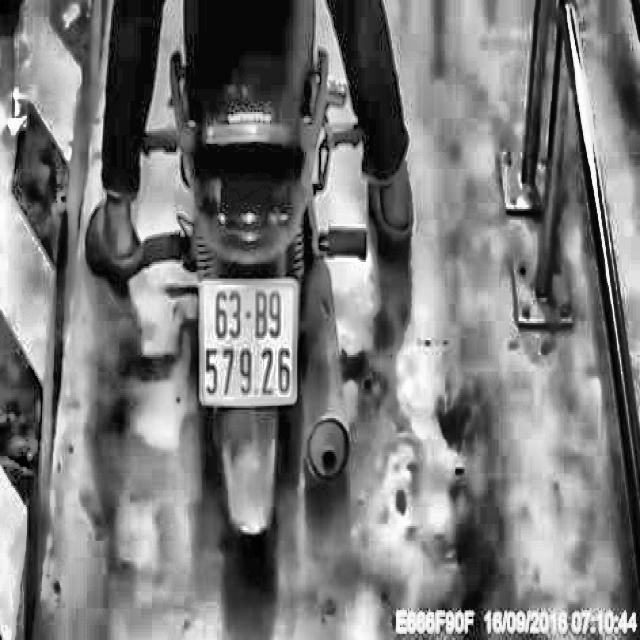plate: (194, 269, 300, 413)
